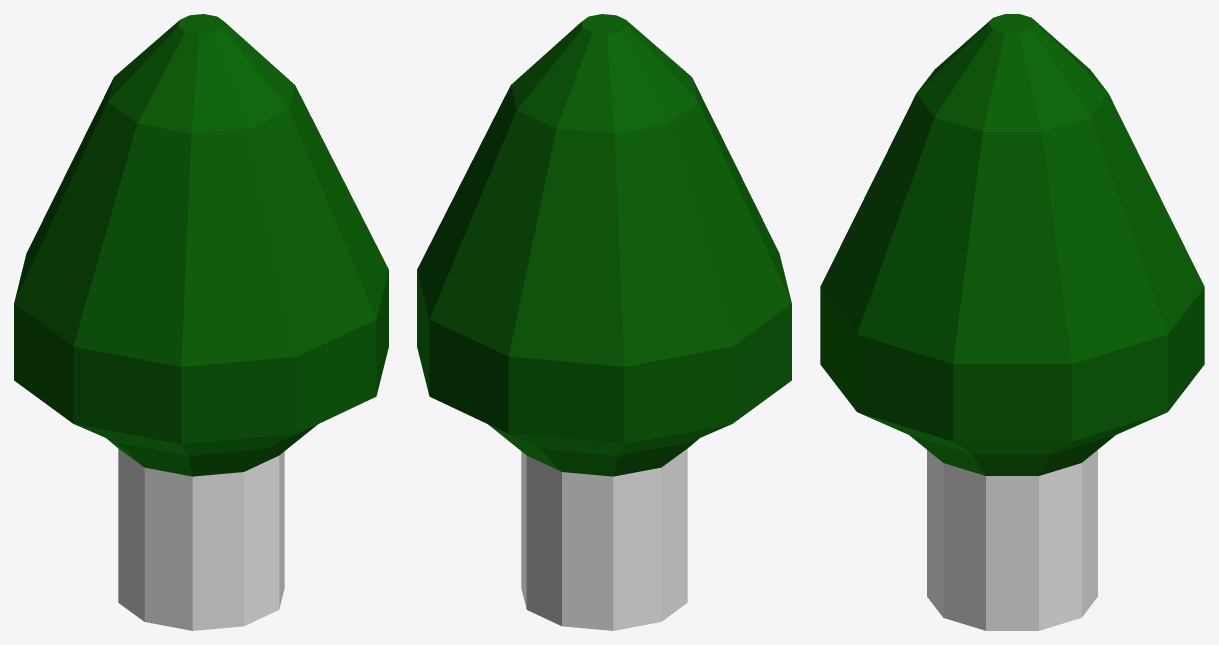
Rendered from tree.gltf.glb.
The picture shows the model from 3 angles, left to right: view 1: azimuth 30°, elevation 25°; view 2: azimuth 150°, elevation 25°; view 3: azimuth 270°, elevation 25°; orthographic projection.
Visible parts, largest first — view 1: Cylinder; view 2: Cylinder; view 3: Cylinder.
Boxes of the visible parts, bbox=[...] form: Cylinder: bbox=[14, 14, 388, 630]; Cylinder: bbox=[417, 14, 791, 630]; Cylinder: bbox=[820, 14, 1204, 630].
Size of the model in its own units: 4.28 by 7.4 by 4.5.
